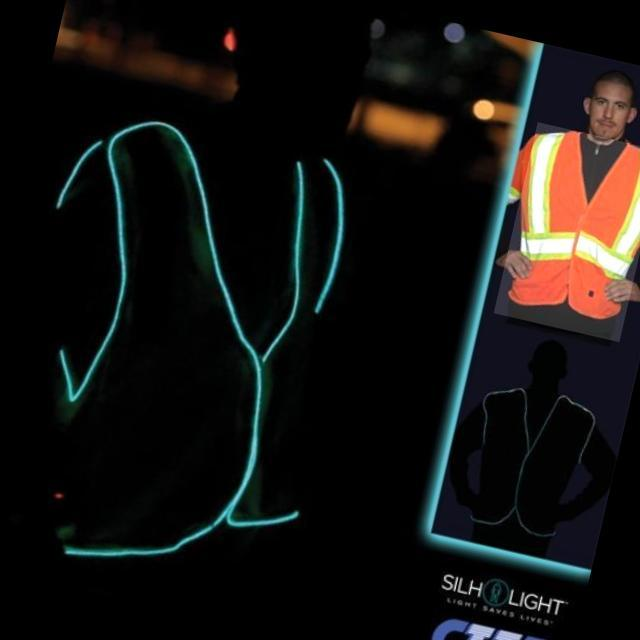Person: (468, 51, 640, 381)
Safety Vest: (493, 122, 640, 342)
bare-arms: (598, 259, 635, 312), (494, 244, 533, 291)
no-helmet: (583, 66, 637, 106)
